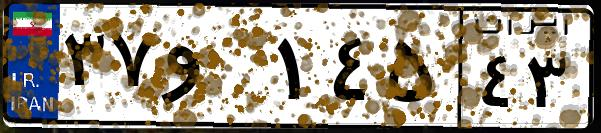1: (270, 28, 330, 110)
3: (57, 26, 110, 100), (525, 38, 570, 115)
4: (330, 28, 385, 110), (475, 38, 525, 113)
5: (385, 28, 445, 110)
7: (110, 28, 158, 98)
و: (158, 20, 270, 120)
